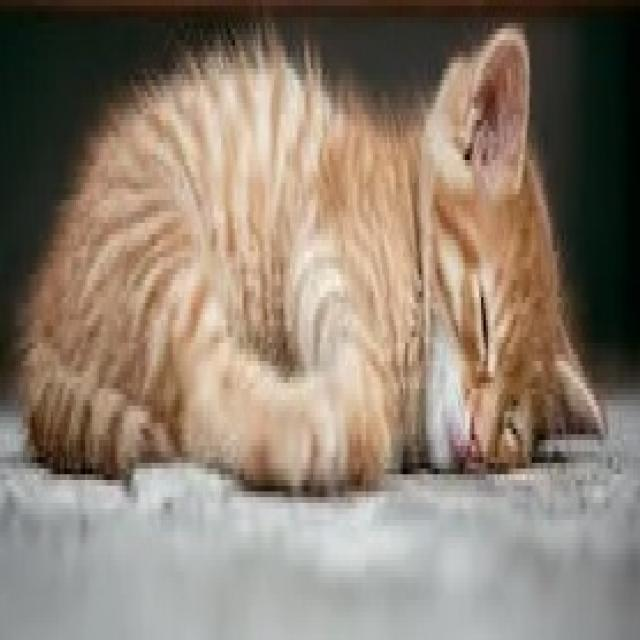cat: (18, 8, 616, 508)
